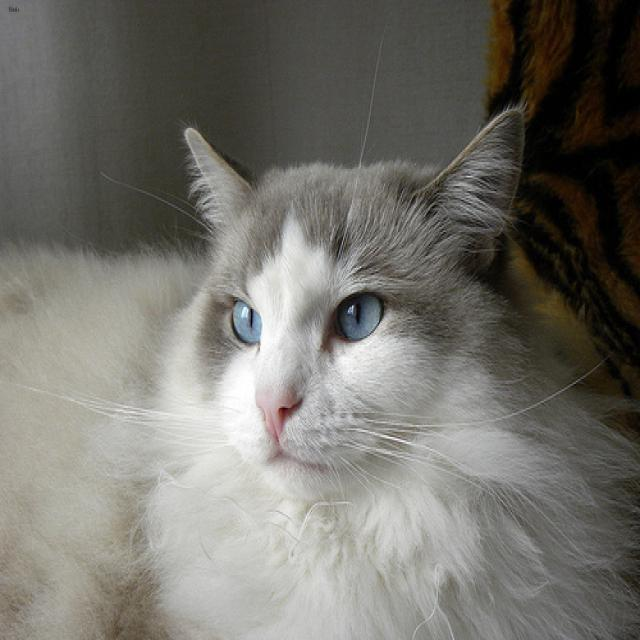Ragdoll: (175, 94, 531, 512)
